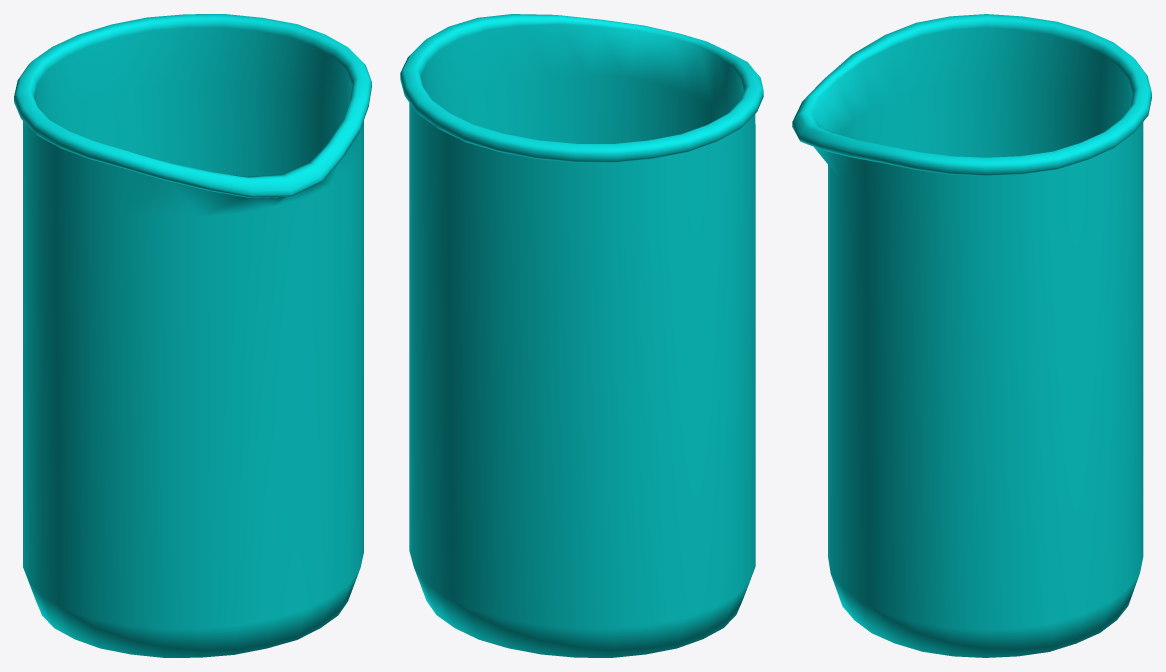
The model's file is SM_Beaker1.fbx.
3 views of the same model, side by side, from view 1: azimuth 30°, elevation 25°; view 2: azimuth 150°, elevation 25°; view 3: azimuth 270°, elevation 25° (orthographic). The views are drawn at different scales.
Visible parts, largest first — view 1: Beaker1; view 2: Beaker1; view 3: Beaker1.
Boxes of the visible parts, x1=… form: Beaker1: x1=14, y1=14, x2=371, y2=657; Beaker1: x1=400, y1=14, x2=763, y2=657; Beaker1: x1=792, y1=14, x2=1151, y2=657.
Size of what is drawn, in the model's own units: 7.5 by 12 by 7.5.
